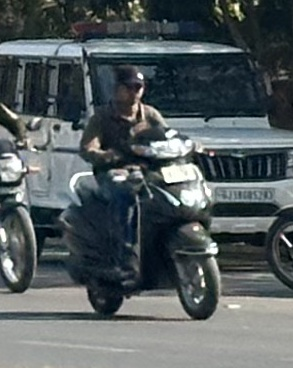BikeWithRider: (53, 59, 229, 323)
NoHelmet: (103, 61, 152, 112)
